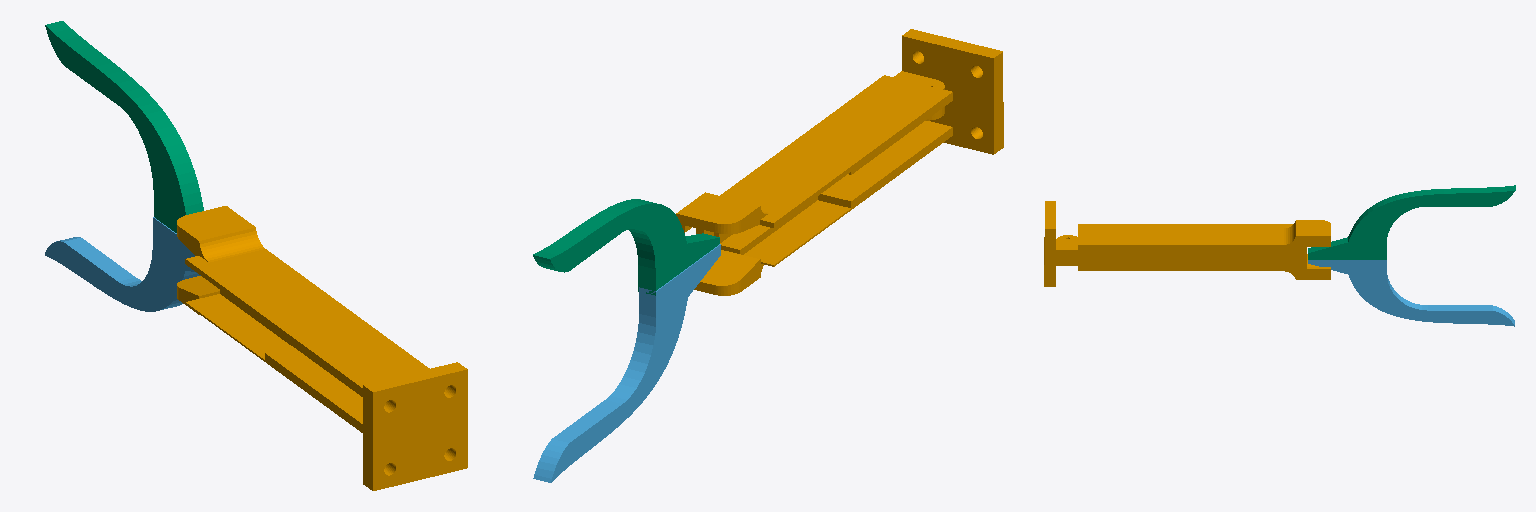
URDF robot description (ur10):
<?xml version="1.0" ?>
<!-- =================================================================================== -->
<!-- |    This document was autogenerated by xacro from ur10_robot.urdf.xacro          | -->
<!-- |    EDITING THIS FILE BY HAND IS NOT RECOMMENDED                                 | -->
<!-- =================================================================================== -->
<robot name="ur10" xmlns:xacro="http://www.ros.org/wiki/xacro">
  <!-- common stuff -->
  <gazebo>
    <plugin filename="libgazebo_ros_control.so" name="ros_control">
      <!--robotNamespace>/</robotNamespace-->
      <!--robotSimType>gazebo_ros_control/DefaultRobotHWSim</robotSimType-->
    </plugin>
    <!--
    <plugin name="gazebo_ros_power_monitor_controller" filename="libgazebo_ros_power_monitor.so">
      <alwaysOn>true</alwaysOn>
      <updateRate>1.0</updateRate>
      <timeout>5</timeout>
      <powerStateTopic>power_state</powerStateTopic>
      <powerStateRate>10.0</powerStateRate>
      <fullChargeCapacity>87.78</fullChargeCapacity>     
      <dischargeRate>-474</dischargeRate>
      <chargeRate>525</chargeRate>
      <dischargeVoltage>15.52</dischargeVoltage>
      <chargeVoltage>16.41</chargeVoltage>
    </plugin>
-->
  </gazebo>
  <!-- ur10 -->
  <!-- arm -->
  <link name="base_link">
    <visual>
      <geometry>
        <mesh filename="package://ur_description/meshes/ur10/visual/Base.dae"/>
      </geometry>
      <material name="LightGrey">
        <color rgba="0.7 0.7 0.7 1.0"/>
      </material>
    </visual>
    <collision>
      <geometry>
        <mesh filename="package://ur_description/meshes/ur10/collision/base.stl"/>
      </geometry>
    </collision>
    <inertial>
      <mass value="4.0"/>
      <origin rpy="0 0 0" xyz="0.0 0.0 0.0"/>
      <inertia ixx="0.0061063308908" ixy="0.0" ixz="0.0" iyy="0.0061063308908" iyz="0.0" izz="0.01125"/>
    </inertial>
  </link>
  <joint name="shoulder_pan_joint" type="revolute">
    <parent link="base_link"/>
    <child link="shoulder_link"/>
    <origin rpy="0.0 0.0 0.0" xyz="0.0 0.0 0.1273"/>
    <axis xyz="0 0 1"/>
    <limit effort="330.0" lower="-6.2831853" upper="6.2831853" velocity="2.16"/>
    <dynamics damping="0.0" friction="0.0"/>
  </joint>
  <link name="shoulder_link">
    <visual>
      <geometry>
        <mesh filename="package://ur_description/meshes/ur10/visual/Shoulder.dae"/>
      </geometry>
      <material name="LightGrey">
        <color rgba="0.7 0.7 0.7 1.0"/>
      </material>
    </visual>
    <collision>
      <geometry>
        <mesh filename="package://ur_description/meshes/ur10/collision/shoulder.stl"/>
      </geometry>
    </collision>
    <inertial>
      <mass value="7.778"/>
      <origin rpy="0 0 0" xyz="0.0 0.0 0.0"/>
      <inertia ixx="0.0314743125769" ixy="0.0" ixz="0.0" iyy="0.0314743125769" iyz="0.0" izz="0.021875625"/>
    </inertial>
  </link>
  <joint name="shoulder_lift_joint" type="revolute">
    <parent link="shoulder_link"/>
    <child link="upper_arm_link"/>
    <origin rpy="0.0 1.570796325 0.0" xyz="0.0 0.220941 0.0"/>
    <axis xyz="0 1 0"/>
    <limit effort="330.0" lower="-6.2831853" upper="6.2831853" velocity="2.16"/>
    <dynamics damping="0.0" friction="0.0"/>
  </joint>
  <link name="upper_arm_link">
    <visual>
      <geometry>
        <mesh filename="package://ur_description/meshes/ur10/visual/UpperArm.dae"/>
      </geometry>
      <material name="LightGrey">
        <color rgba="0.7 0.7 0.7 1.0"/>
      </material>
    </visual>
    <collision>
      <geometry>
        <mesh filename="package://ur_description/meshes/ur10/collision/upper_arm.stl"/>
      </geometry>
    </collision>
    <inertial>
      <mass value="12.93"/>
      <origin rpy="0 0 0" xyz="0.0 0.0 0.306"/>
      <inertia ixx="0.421753803798" ixy="0.0" ixz="0.0" iyy="0.421753803798" iyz="0.0" izz="0.036365625"/>
    </inertial>
  </link>
  <joint name="elbow_joint" type="revolute">
    <parent link="upper_arm_link"/>
    <child link="forearm_link"/>
    <origin rpy="0.0 0.0 0.0" xyz="0.0 -0.1719 0.612"/>
    <axis xyz="0 1 0"/>
    <limit effort="150.0" lower="-6.2831853" upper="6.2831853" velocity="3.15"/>
    <dynamics damping="0.0" friction="0.0"/>
  </joint>
  <link name="forearm_link">
    <visual>
      <geometry>
        <mesh filename="package://ur_description/meshes/ur10/visual/Forearm.dae"/>
      </geometry>
      <material name="LightGrey">
        <color rgba="0.7 0.7 0.7 1.0"/>
      </material>
    </visual>
    <collision>
      <geometry>
        <mesh filename="package://ur_description/meshes/ur10/collision/forearm.stl"/>
      </geometry>
    </collision>
    <inertial>
      <mass value="3.87"/>
      <origin rpy="0 0 0" xyz="0.0 0.0 0.28615"/>
      <inertia ixx="0.111069694097" ixy="0.0" ixz="0.0" iyy="0.111069694097" iyz="0.0" izz="0.010884375"/>
    </inertial>
  </link>
  <joint name="wrist_1_joint" type="revolute">
    <parent link="forearm_link"/>
    <child link="wrist_1_link"/>
    <origin rpy="0.0 1.570796325 0.0" xyz="0.0 0.0 0.5723"/>
    <axis xyz="0 1 0"/>
    <limit effort="54.0" lower="-6.2831853" upper="6.2831853" velocity="3.2"/>
    <dynamics damping="0.0" friction="0.0"/>
  </joint>
  <link name="wrist_1_link">
    <visual>
      <geometry>
        <mesh filename="package://ur_description/meshes/ur10/visual/Wrist1.dae"/>
      </geometry>
      <material name="LightGrey">
        <color rgba="0.7 0.7 0.7 1.0"/>
      </material>
    </visual>
    <collision>
      <geometry>
        <mesh filename="package://ur_description/meshes/ur10/collision/wrist_1.stl"/>
      </geometry>
    </collision>
    <inertial>
      <mass value="1.96"/>
      <origin rpy="0 0 0" xyz="0.0 0.0 0.0"/>
      <inertia ixx="0.0051082479567" ixy="0.0" ixz="0.0" iyy="0.0051082479567" iyz="0.0" izz="0.0055125"/>
    </inertial>
  </link>
  <joint name="wrist_2_joint" type="revolute">
    <parent link="wrist_1_link"/>
    <child link="wrist_2_link"/>
    <origin rpy="0.0 0.0 0.0" xyz="0.0 0.1149 0.0"/>
    <axis xyz="0 0 1"/>
    <limit effort="54.0" lower="-6.2831853" upper="6.2831853" velocity="3.2"/>
    <dynamics damping="0.0" friction="0.0"/>
  </joint>
  <link name="wrist_2_link">
    <visual>
      <geometry>
        <mesh filename="package://ur_description/meshes/ur10/visual/Wrist2.dae"/>
      </geometry>
      <material name="LightGrey">
        <color rgba="0.7 0.7 0.7 1.0"/>
      </material>
    </visual>
    <collision>
      <geometry>
        <mesh filename="package://ur_description/meshes/ur10/collision/wrist_2.stl"/>
      </geometry>
    </collision>
    <inertial>
      <mass value="1.96"/>
      <origin rpy="0 0 0" xyz="0.0 0.0 0.0"/>
      <inertia ixx="0.0051082479567" ixy="0.0" ixz="0.0" iyy="0.0051082479567" iyz="0.0" izz="0.0055125"/>
    </inertial>
  </link>
  <joint name="wrist_3_joint" type="revolute">
    <parent link="wrist_2_link"/>
    <child link="wrist_3_link"/>
    <origin rpy="0.0 0.0 0.0" xyz="0.0 0.0 0.1157"/>
    <axis xyz="0 1 0"/>
    <limit effort="54.0" lower="-6.2831853" upper="6.2831853" velocity="3.2"/>
    <dynamics damping="0.0" friction="0.0"/>
  </joint>
  <link name="wrist_3_link">
    <visual>
      <geometry>
        <mesh filename="package://ur_description/meshes/ur10/visual/Wrist3.dae"/>
      </geometry>
      <material name="LightGrey">
        <color rgba="0.7 0.7 0.7 1.0"/>
      </material>
    </visual>
    <collision>
      <geometry>
        <mesh filename="package://ur_description/meshes/ur10/collision/wrist_3.stl"/>
      </geometry>
    </collision>
    <inertial>
      <mass value="0.202"/>
      <origin rpy="0 0 0" xyz="0.0 0.0 0.0"/>
      <inertia ixx="0.000526462289415" ixy="0.0" ixz="0.0" iyy="0.000526462289415" iyz="0.0" izz="0.000568125"/>
    </inertial>
  </link>
  <joint name="ee_fixed_joint" type="fixed">
    <parent link="wrist_3_link"/>
    <child link="ee_link"/>
    <origin rpy="0.0 0.0 1.570796325" xyz="0.0 0.0922 0.0"/>
  </joint>
  <link name="ee_link">
    <collision>
      <geometry>
        <box size="0.01 0.01 0.01"/>
      </geometry>
      <origin rpy="0 0 0" xyz="-0.01 0 0"/>
    </collision>
  </link>

<joint name="visual_gripper_fixed_joint" type="fixed">
      <parent link="ee_link" />
      <child link = "visual_gripper_link" />
      <origin xyz="-0.055 -0.0275 0.0275" rpy="0.0 1.57 0.0" />
      <!-- <origin xyz="-0.0275 -0.0275 -0.047" rpy="0.0 0.0 0.0" /> -->
      <!-- <origin xyz="-0.13 0.065 -0.06" rpy="1.57 -0.787 1.57" /> -->
    </joint>
<link
  name="visual_gripper_link">
  <visual>
    <origin xyz="0 0 0" rpy="0 0 0" />
    <geometry>
      <mesh
        filename="package://ur_description/meshes/custom_gripper/gripper_base.STL" />
    </geometry>
  </visual>
  <material
      name="">
      <color
        rgba="0.0 0.0 0.93333 1" />
  </material>
  <collision>
    <origin xyz="0 0 0" rpy="0 0 0" />
    <geometry>
      <mesh
        filename="package://ur_description/meshes/custom_gripper/gripper_base.STL" />
    </geometry>
  </collision>
  
</link>


<joint name="left_finger_joint" type="revolute">
      <parent link="visual_gripper_link" />
      <child link = "left_finger_link" />
      <origin xyz="-0.04 0.0 0.28" rpy="0.0 0.0 0.0" />
      <axis xyz="0 1 0"/>
      <limit effort="54.0" lower="-6.2831853" upper="6.2831853" velocity="3.2"/>
      <dynamics damping="0.0" friction="0.0"/>
      <!-- <origin xyz="-0.0275 -0.0275 -0.047" rpy="0.0 0.0 0.0" /> -->
      <!-- <origin xyz="-0.13 0.065 -0.06" rpy="1.57 -0.787 1.57" /> -->
    </joint>
<link
  name="left_finger_link">
  <visual>
    <origin xyz="0 0 0" rpy="0 0 0" />
    <geometry>
      <mesh
        filename="package://ur_description/meshes/custom_gripper/finger.STL" />
    </geometry>
  </visual>
  <collision>
    <origin xyz="0 0 0" rpy="0 0 0" />
    <geometry>
      <mesh
        filename="package://ur_description/meshes/custom_gripper/finger.STL" />
    </geometry>
  </collision>
  <material
      name="">
      <color
        rgba="0.0 0.0 0.0 1" />
  </material>
</link>


<joint name="right_finger_joint" type="revolute">
      <parent link="visual_gripper_link" />
      <child link = "right_finger_link" />
      <origin xyz="0.09 0.09 0.28" rpy="0.0 0.0 3.14" />
      <axis xyz="0 1 0"/>
    <limit effort="54.0" lower="-6.2831853" upper="6.2831853" velocity="3.2"/>
    <dynamics damping="0.0" friction="0.0"/>
      <!-- <origin xyz="-0.0275 -0.0275 -0.047" rpy="0.0 0.0 0.0" /> -->
      <!-- <origin xyz="-0.13 0.065 -0.06" rpy="1.57 -0.787 1.57" /> -->
    </joint>
<link
  name="right_finger_link">
  <visual>
    <origin xyz="0 0 0" rpy="0 0 0" />
    <geometry>
      <mesh
        filename="package://ur_description/meshes/custom_gripper/finger.STL" />
    </geometry>
  </visual>
  <collision>
    <origin xyz="0 0 0" rpy="0 0 0" />
    <geometry>
      <mesh
        filename="package://ur_description/meshes/custom_gripper/finger.STL" />
    </geometry>
  </collision>
  <material
      name="">
      <color
        rgba="0.0 0.0 0.0 1" />
  </material>
</link>






  <transmission name="right_finger_trans">
    <type>transmission_interface/SimpleTransmission</type>
    <joint name="right_finger_joint">
      <hardwareInterface>PositionJointInterface</hardwareInterface>
    </joint>
    <actuator name="right_finger_motor">
      <mechanicalReduction>1</mechanicalReduction>
    </actuator>
  </transmission>

   <transmission name="left_finger_trans">
    <type>transmission_interface/SimpleTransmission</type>
    <joint name="left_finger_joint">
      <hardwareInterface>PositionJointInterface</hardwareInterface>
    </joint>
    <actuator name="left_finger_motor">
      <mechanicalReduction>1</mechanicalReduction>
    </actuator>
  </transmission>


  <transmission name="shoulder_pan_trans">
    <type>transmission_interface/SimpleTransmission</type>
    <joint name="shoulder_pan_joint">
      <hardwareInterface>PositionJointInterface</hardwareInterface>
    </joint>
    <actuator name="shoulder_pan_motor">
      <mechanicalReduction>1</mechanicalReduction>
    </actuator>
  </transmission>
  <transmission name="shoulder_lift_trans">
    <type>transmission_interface/SimpleTransmission</type>
    <joint name="shoulder_lift_joint">
      <hardwareInterface>PositionJointInterface</hardwareInterface>
    </joint>
    <actuator name="shoulder_lift_motor">
      <mechanicalReduction>1</mechanicalReduction>
    </actuator>
  </transmission>
  <transmission name="elbow_trans">
    <type>transmission_interface/SimpleTransmission</type>
    <joint name="elbow_joint">
      <hardwareInterface>PositionJointInterface</hardwareInterface>
    </joint>
    <actuator name="elbow_motor">
      <mechanicalReduction>1</mechanicalReduction>
    </actuator>
  </transmission>
  <transmission name="wrist_1_trans">
    <type>transmission_interface/SimpleTransmission</type>
    <joint name="wrist_1_joint">
      <hardwareInterface>PositionJointInterface</hardwareInterface>
    </joint>
    <actuator name="wrist_1_motor">
      <mechanicalReduction>1</mechanicalReduction>
    </actuator>
  </transmission>
  <transmission name="wrist_2_trans">
    <type>transmission_interface/SimpleTransmission</type>
    <joint name="wrist_2_joint">
      <hardwareInterface>PositionJointInterface</hardwareInterface>
    </joint>
    <actuator name="wrist_2_motor">
      <mechanicalReduction>1</mechanicalReduction>
    </actuator>
  </transmission>
  <transmission name="wrist_3_trans">
    <type>transmission_interface/SimpleTransmission</type>
    <joint name="wrist_3_joint">
      <hardwareInterface>PositionJointInterface</hardwareInterface>
    </joint>
    <actuator name="wrist_3_motor">
      <mechanicalReduction>1</mechanicalReduction>
    </actuator>
  </transmission>
  <link name="world"/>
  <joint name="world_joint" type="fixed">
    <parent link="world"/>
    <child link="base_link"/>
    <origin rpy="0.0 0.0 0.0" xyz="0.0 0.0 0.0"/>
  </joint>
</robot>

--- Render facts (derived) ---
3 views of the same robot in one strip: view 1: azimuth 30°, elevation 25°; view 2: azimuth 150°, elevation 25°; view 3: azimuth 270°, elevation 25° (orthographic).
Model ur10 with 12 links and 11 joints (8 revolute, 3 fixed), rooted at world, posed all joints at 0.
Links seen in each view (by area): view 1: visual_gripper_link, right_finger_link, left_finger_link; view 2: visual_gripper_link, left_finger_link, right_finger_link; view 3: visual_gripper_link, right_finger_link, left_finger_link.
Link boxes in pixels (bbox=[...]): visual_gripper_link: bbox=[177, 206, 467, 490]; right_finger_link: bbox=[45, 21, 203, 232]; left_finger_link: bbox=[45, 217, 200, 311]; visual_gripper_link: bbox=[676, 29, 1003, 295]; left_finger_link: bbox=[533, 244, 720, 482]; right_finger_link: bbox=[533, 199, 719, 295]; visual_gripper_link: bbox=[1044, 201, 1330, 286]; right_finger_link: bbox=[1308, 185, 1515, 259]; left_finger_link: bbox=[1308, 260, 1514, 326].
Bounding box of the posed robot: 0.055 × 0.3993 × 0.1276 m (x, y, z).
3 mesh visuals loaded from 9 distinct referenced files (2 binary STL); not drawn: 7 (reference not matched to a file when rendering).